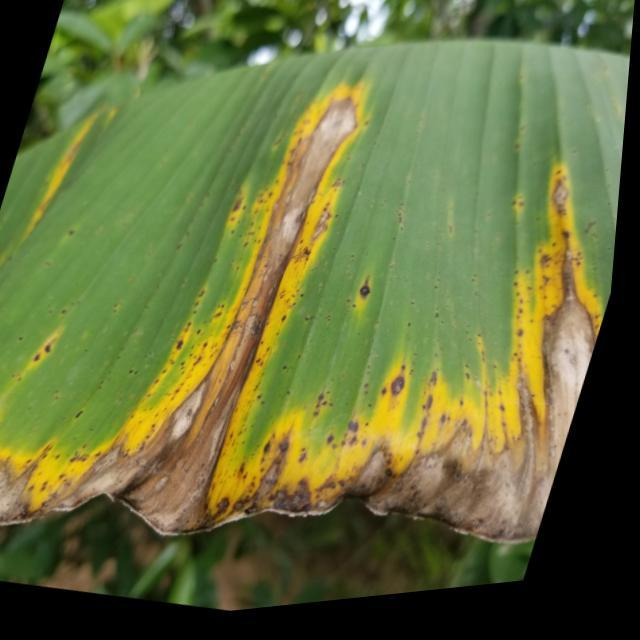Early_rust: (0, 386, 640, 575), (361, 95, 640, 432), (135, 65, 374, 400), (0, 69, 111, 224), (0, 305, 79, 369)
